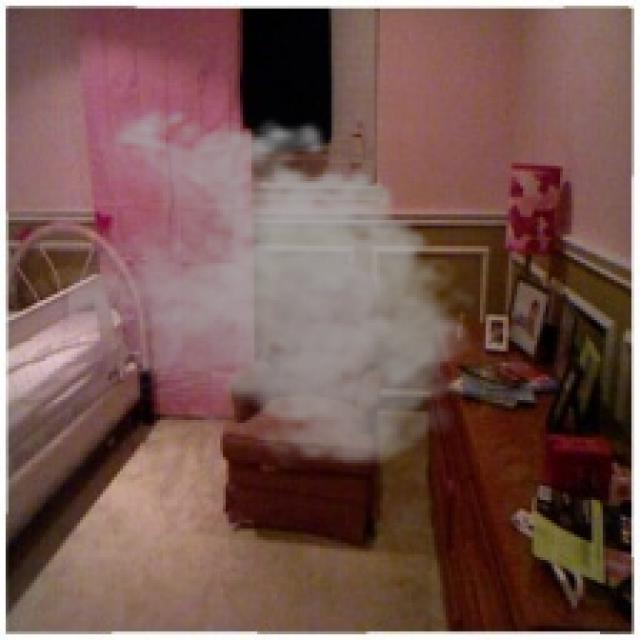smoke: (63, 97, 486, 474)
